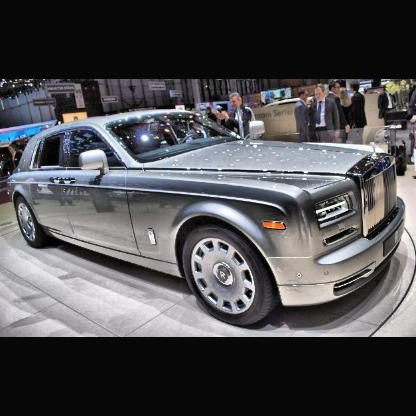Rolls-Royce Ghost Sedan 2012: (8, 110, 407, 327)
